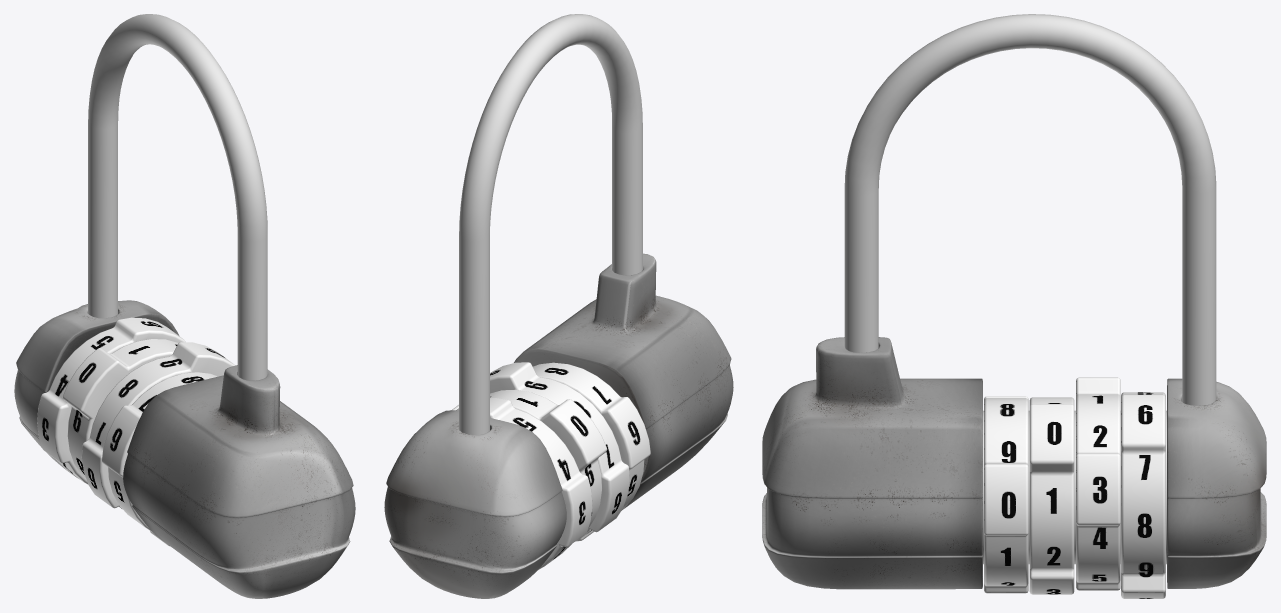
File: lock.fbx
The picture shows the model from 3 angles, left to right: view 1: azimuth 30°, elevation 25°; view 2: azimuth 150°, elevation 25°; view 3: azimuth 270°, elevation 25°; orthographic projection. The views are drawn at different scales.
Visible parts, largest first — view 1: Cube, Cylinder.005, Cylinder.002, Cylinder.003, Cylinder.004, Cylinder.001; view 2: Cube, Cylinder.005, Cylinder.002, Cylinder.001, Cylinder.003, Cylinder.004; view 3: Cube, Cylinder.005, Cylinder.003, Cylinder.004, Cylinder.002, Cylinder.001, Cylinder.
Part boxes in pixels (box(x1,y1,x2,y2)): Cube: box(14, 300, 355, 598); Cylinder.005: box(88, 14, 267, 380); Cylinder.002: box(81, 342, 235, 509); Cylinder.003: box(62, 339, 178, 479); Cylinder.004: box(37, 317, 185, 484); Cylinder.001: box(102, 372, 217, 546); Cube: box(384, 253, 733, 598); Cylinder.005: box(459, 14, 642, 434); Cylinder.002: box(490, 362, 629, 540); Cylinder.001: box(533, 362, 650, 541); Cylinder.003: box(451, 389, 607, 528); Cylinder.004: box(456, 398, 592, 569); Cube: box(762, 337, 1266, 589); Cylinder.005: box(844, 14, 1216, 405); Cylinder.003: box(1076, 377, 1120, 590); Cylinder.004: box(1121, 392, 1165, 598); Cylinder.002: box(1029, 397, 1074, 594); Cylinder.001: box(984, 396, 1028, 593); Cylinder: box(983, 410, 1166, 564).
Size of the model in its own units: 3.58 by 10.34 by 8.26.
